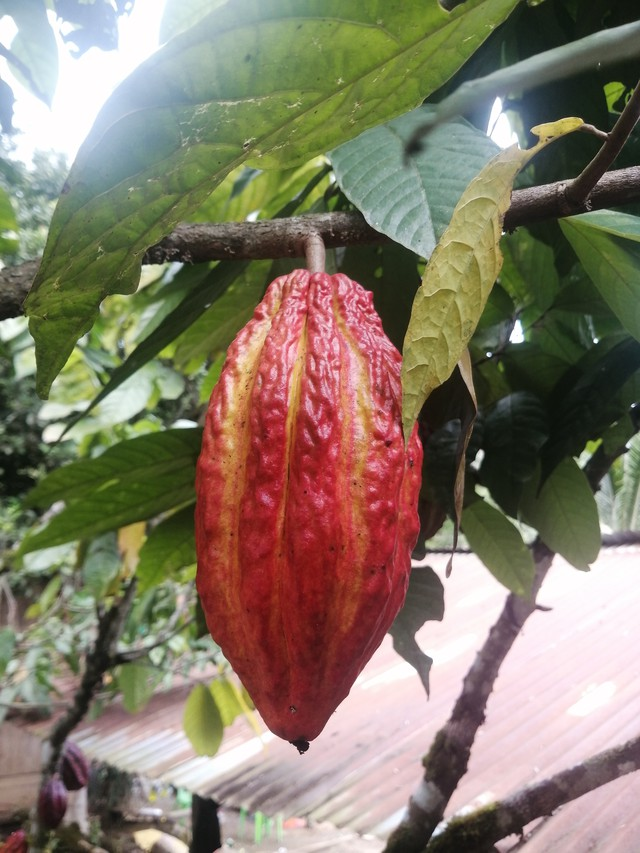carmenta foraseminis: (189, 260, 428, 753)
